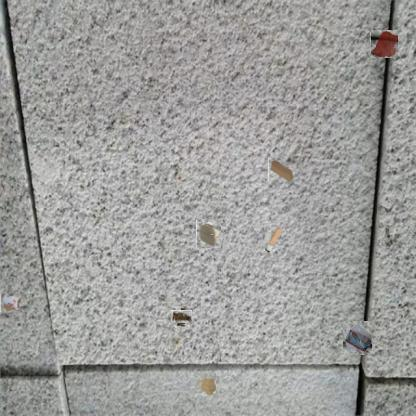dirty: (342, 323, 374, 354), (196, 220, 223, 247), (262, 225, 284, 253), (268, 158, 293, 182), (0, 294, 21, 312), (173, 308, 190, 326)
liquid: (370, 30, 398, 58), (194, 372, 216, 396)
